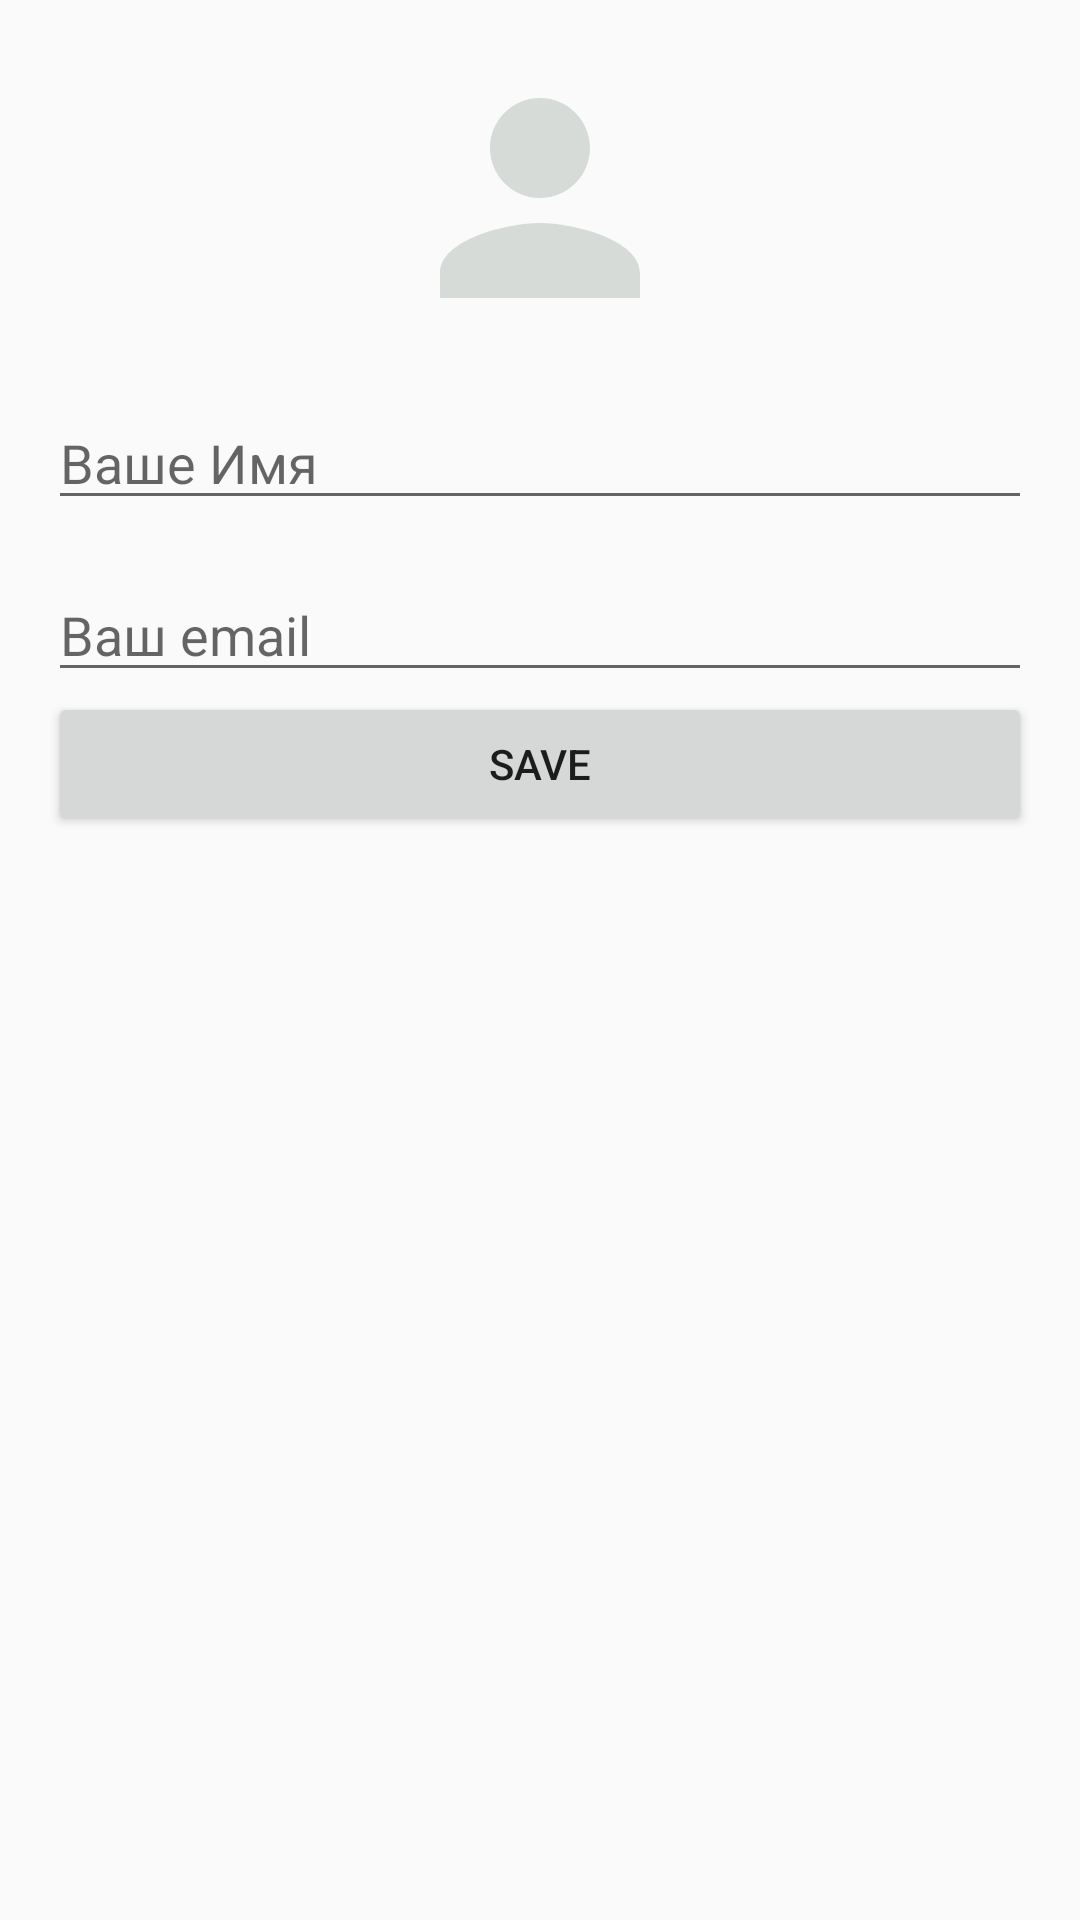

Icons on this 1080w x 1920h Android screen, each with its box as (x1, y1, x2, y2):
person: (440, 98, 640, 298)
